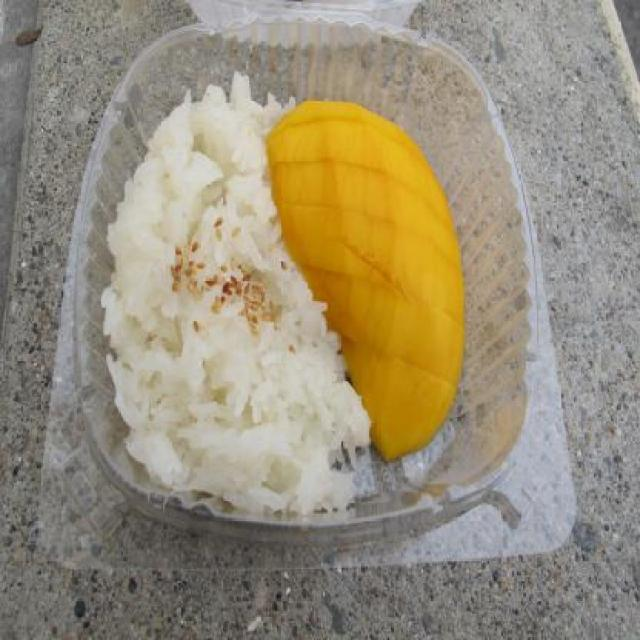Mango: (266, 99, 465, 458)
